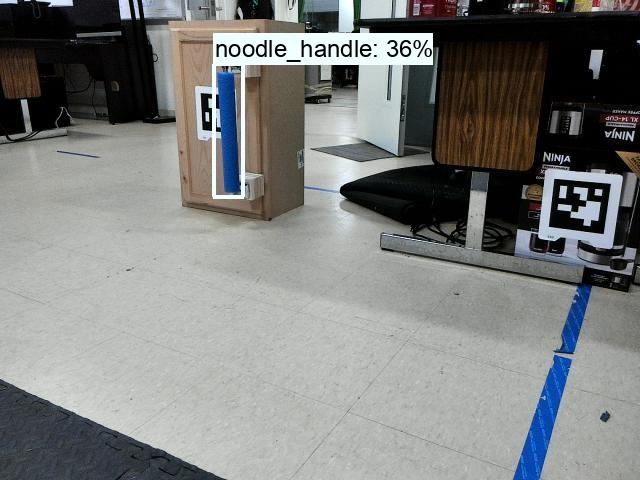noodle_handle: (214, 65, 243, 196)
